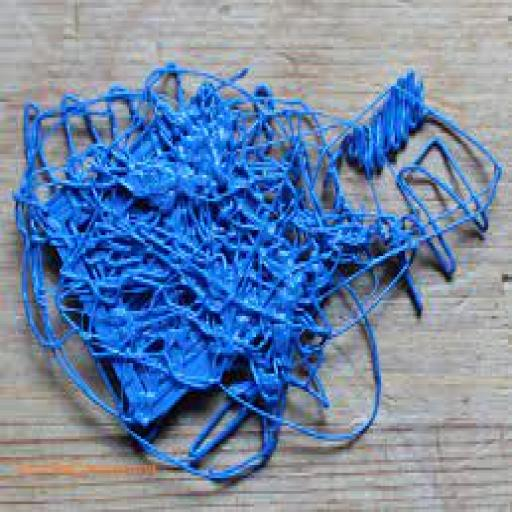spaghetti: (16, 52, 506, 487)
